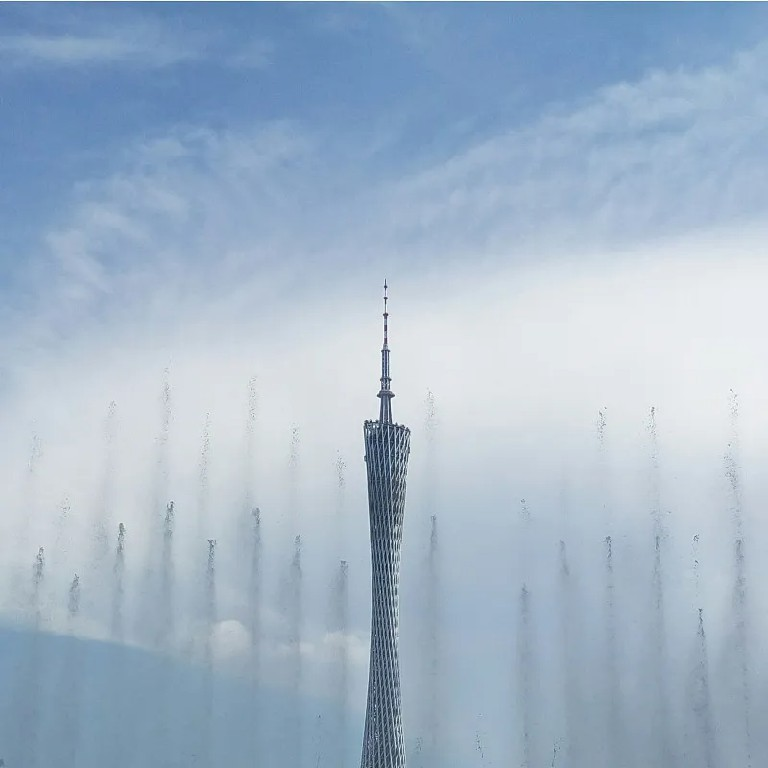Canton: (357, 277, 413, 768)
